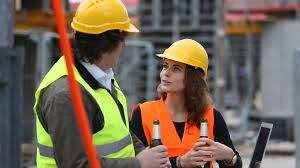helmet: (68, 1, 142, 37), (154, 37, 210, 81)
person with full safety: (32, 1, 139, 167), (129, 38, 241, 166)
safety vest: (35, 57, 135, 165), (140, 93, 216, 165)
